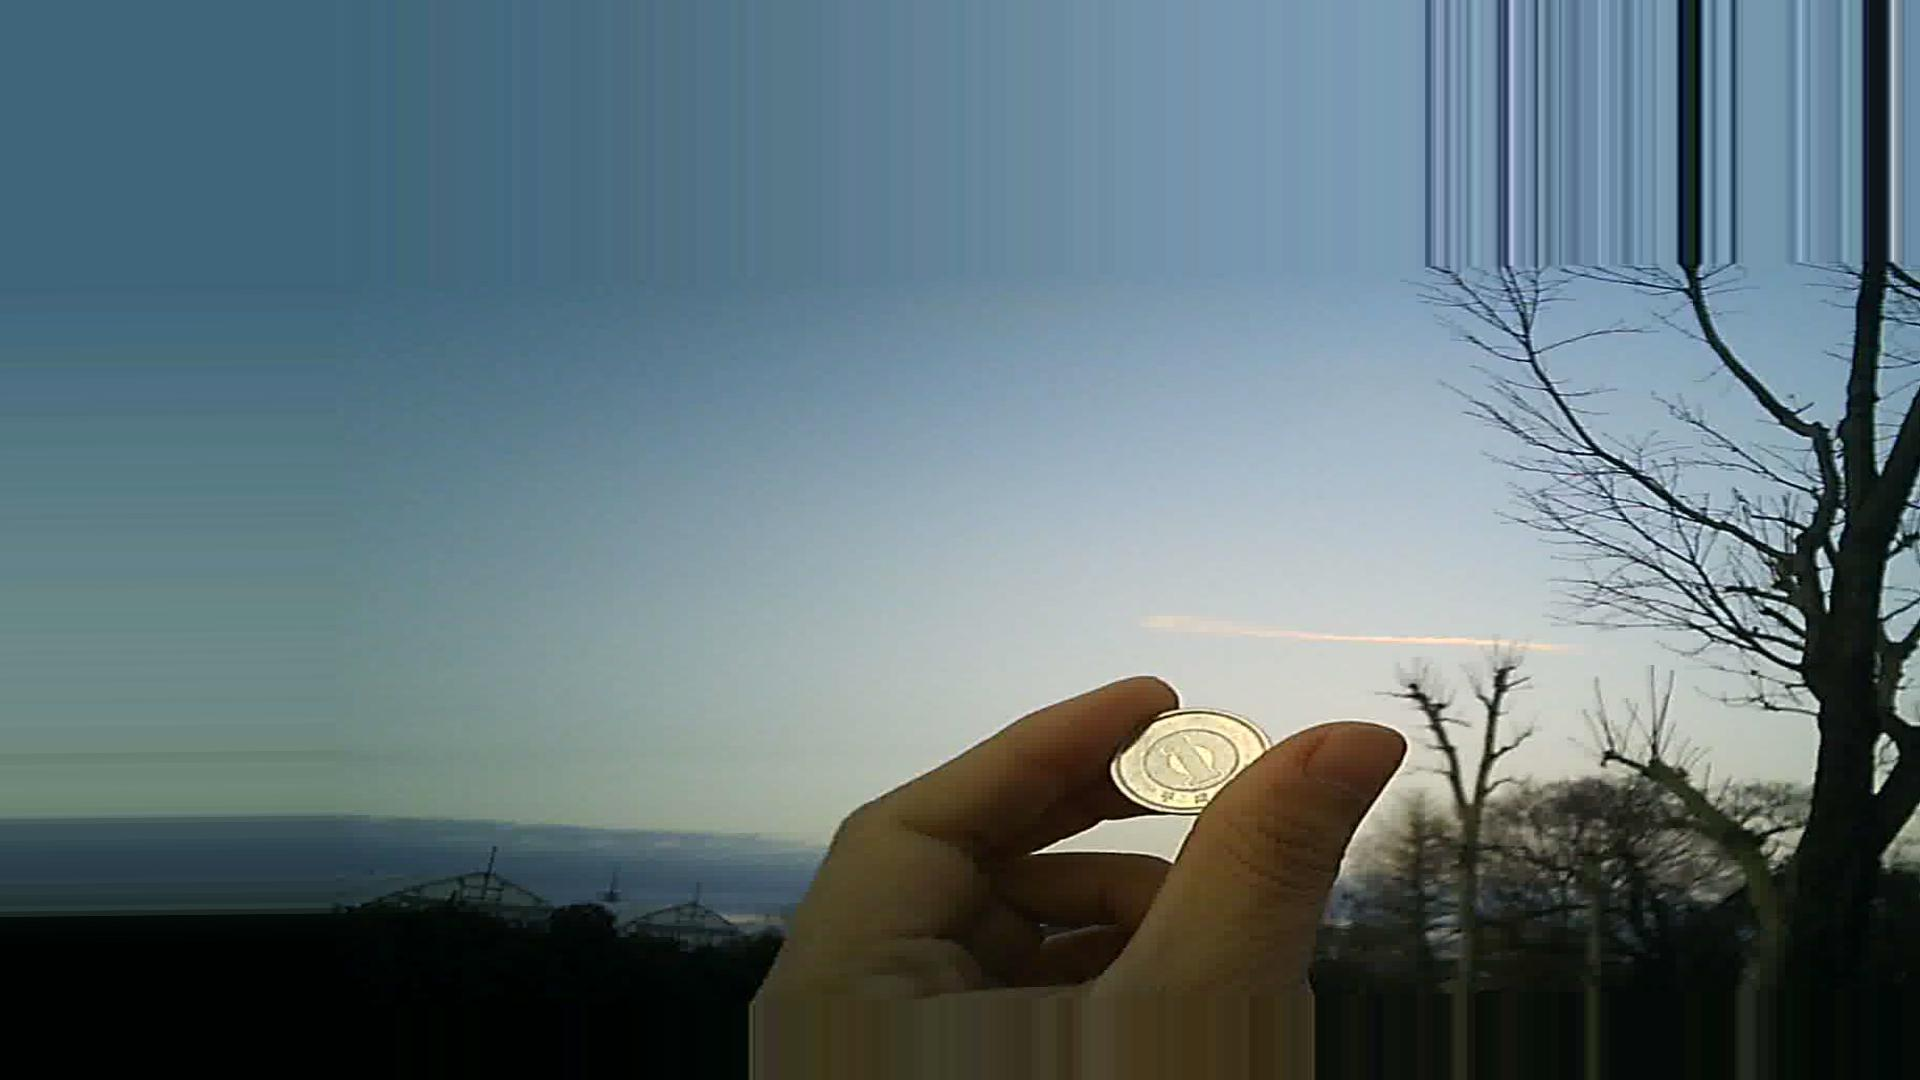1 Yen: (1114, 686, 1278, 824)
